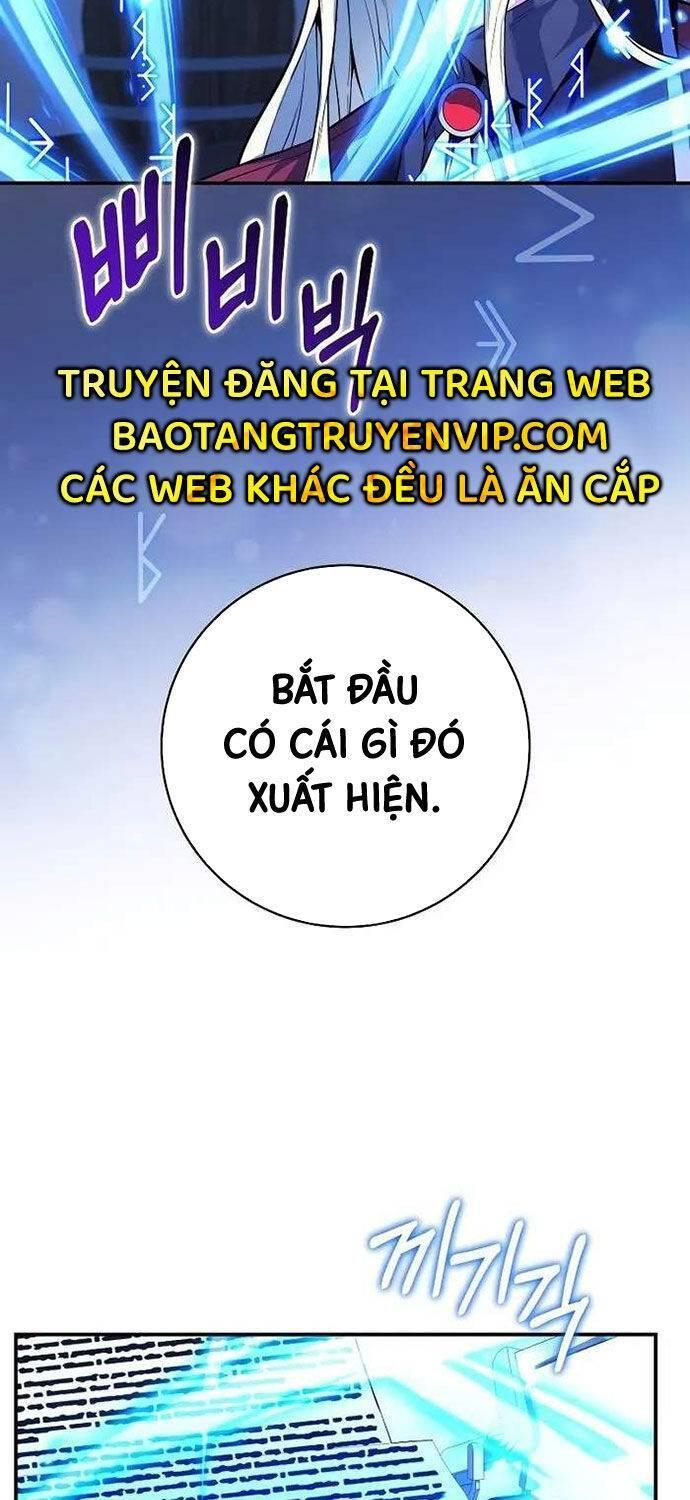quangcao: (52, 356, 664, 508)
